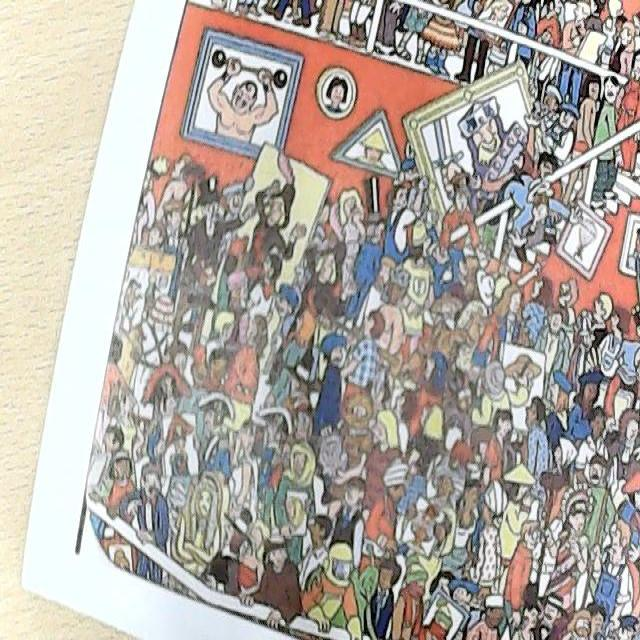waldo: (287, 394, 314, 441)
